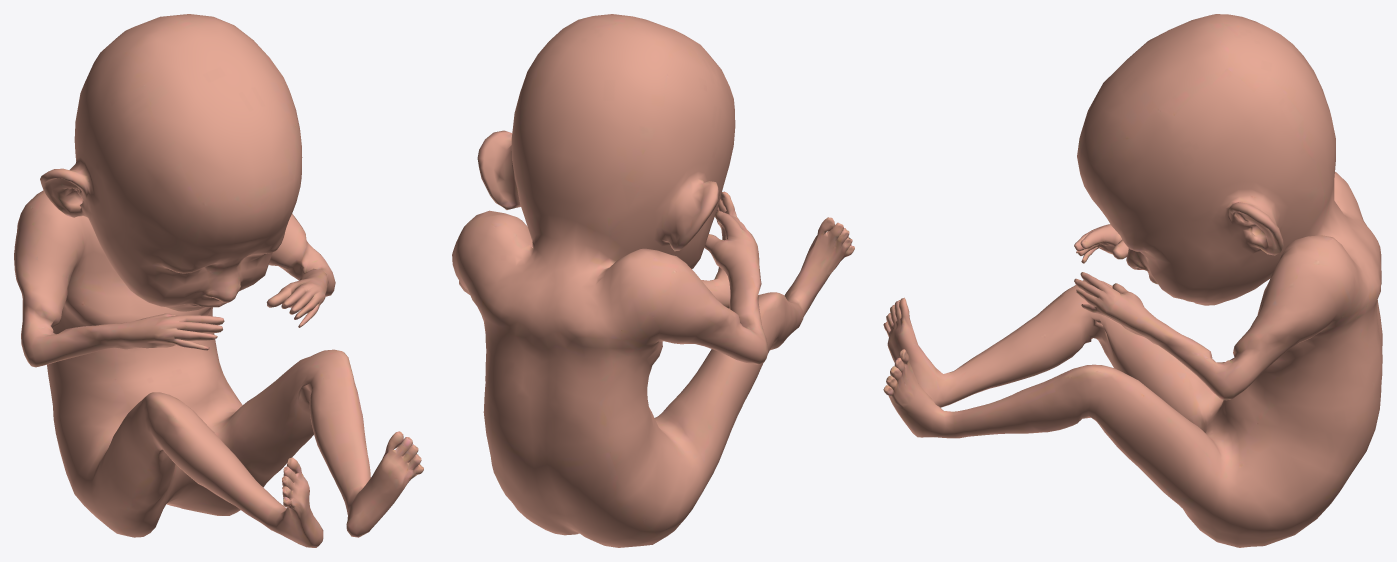
3 renders of one model, left to right at view 1: azimuth 30°, elevation 25°; view 2: azimuth 150°, elevation 25°; view 3: azimuth 270°, elevation 25°, orthographic.
Parts seen in each view (by area): view 1: Baby; view 2: Baby; view 3: Baby.
Boxes of the visible parts, x1,y1,x2,y2 form: Baby: (14,14,423,547); Baby: (452,14,854,547); Baby: (883,14,1382,547).
Bounding box in the file's own units: 0.1443 × 0.2283 × 0.2062.
Materials: 1 (1 with a texture image).
